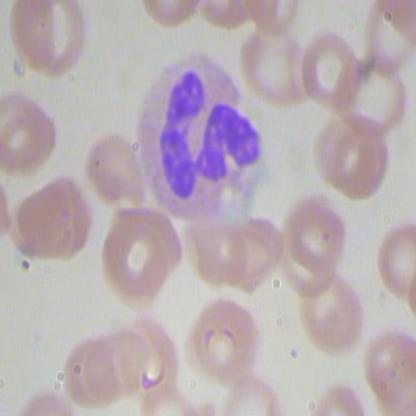RBC: (5, 174, 94, 267), (100, 213, 176, 309), (7, 1, 88, 79), (187, 294, 258, 380), (237, 23, 309, 107), (300, 270, 366, 353), (283, 187, 349, 270), (300, 28, 364, 108), (83, 130, 147, 209), (1, 93, 59, 172)
WBC: (127, 49, 268, 236)
